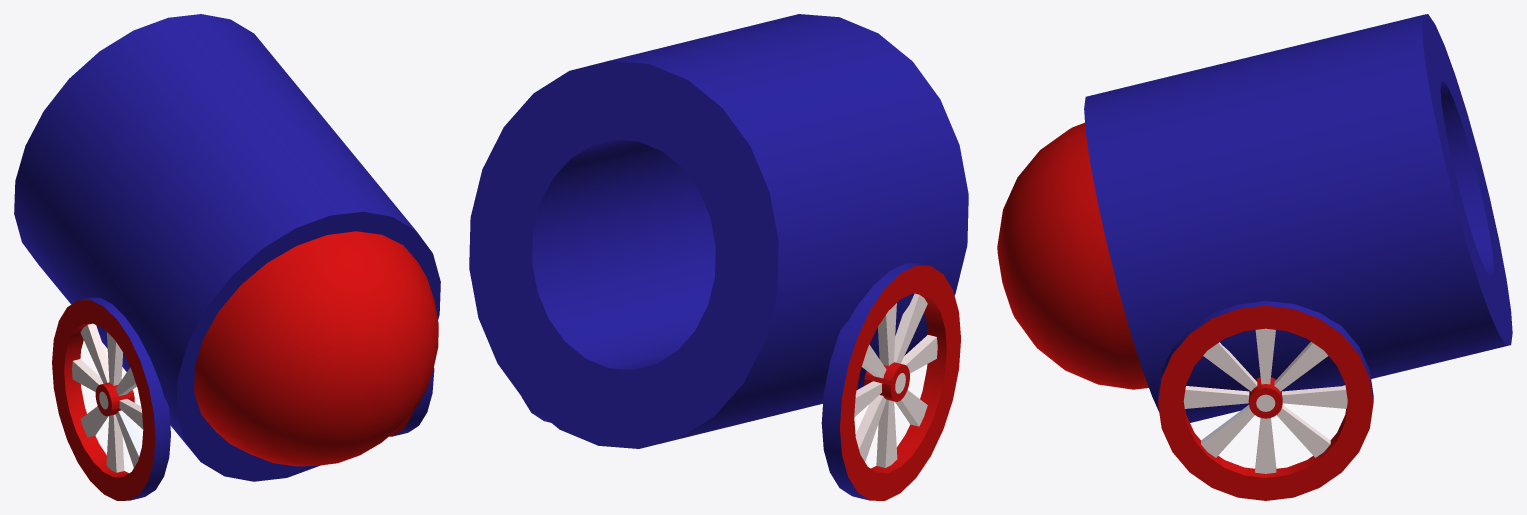
File: TestCannon.fbx
3 renders of one model, left to right at view 1: azimuth 30°, elevation 25°; view 2: azimuth 150°, elevation 25°; view 3: azimuth 270°, elevation 25°, orthographic. The views are drawn at different scales.
Parts seen in each view (by area): view 1: mergedBlocks; view 2: mergedBlocks; view 3: mergedBlocks.
Part boxes in pixels (left/top/right/bottom): mergedBlocks: left=14, top=14, right=440, bottom=500; mergedBlocks: left=469, top=14, right=968, bottom=500; mergedBlocks: left=997, top=14, right=1512, bottom=500.
Bounding box in the file's own units: 9.57 × 12.72 × 14.73.
